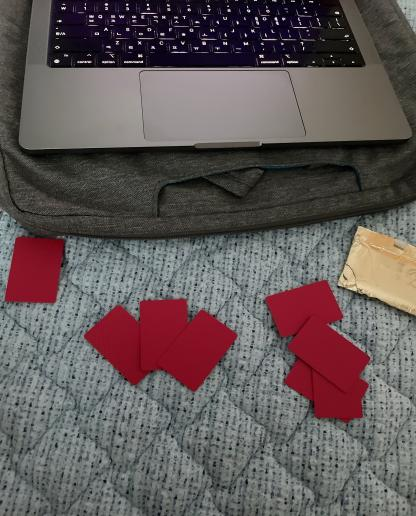ThreeHwatoo: (72, 283, 242, 397)
